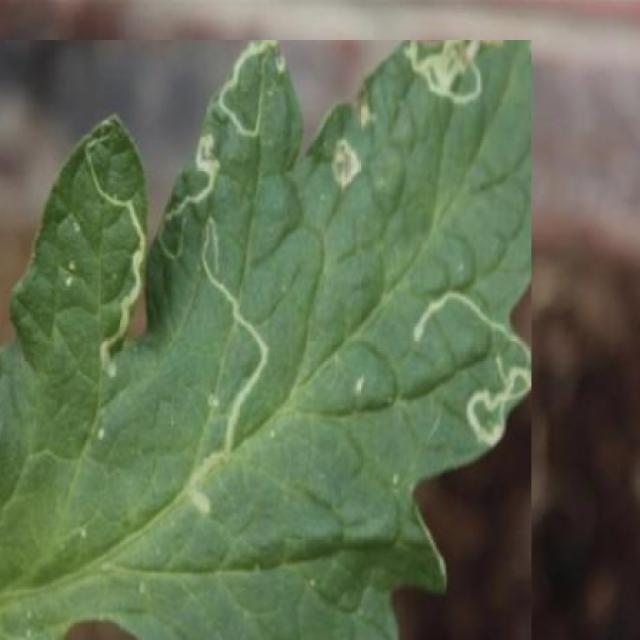Leaf Miner: (0, 40, 531, 640)
